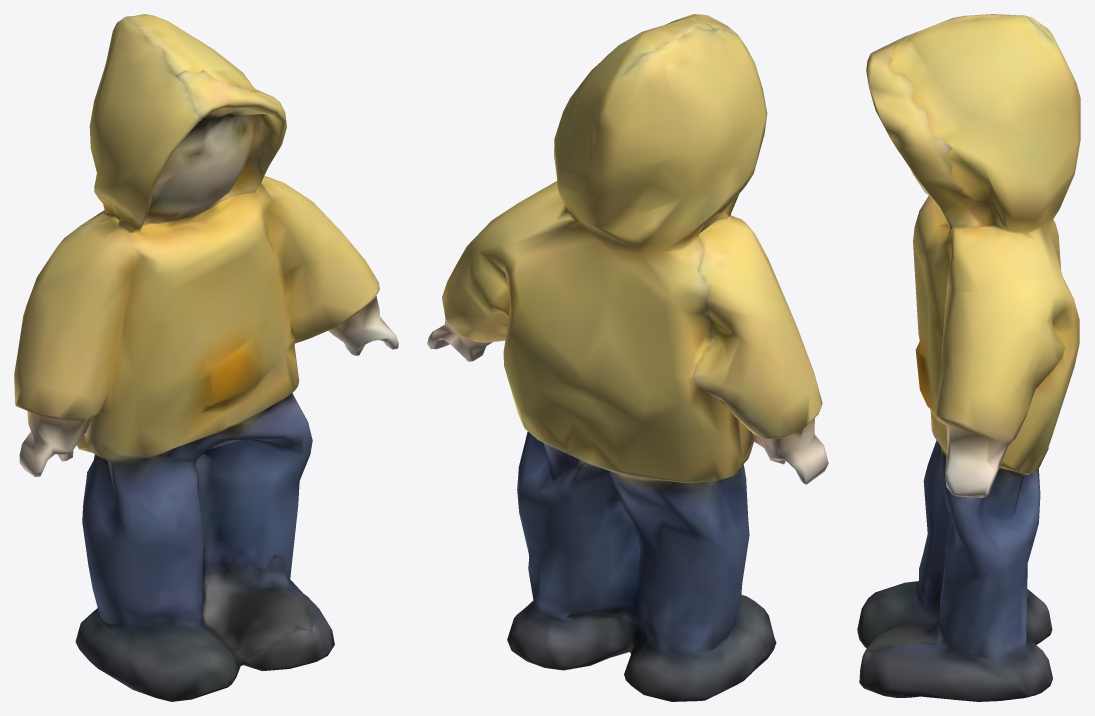
The model's file is 3D_Dollhouse_Happy_Brother-medium.glb.
3 renders of one model, left to right at view 1: azimuth 30°, elevation 25°; view 2: azimuth 150°, elevation 25°; view 3: azimuth 270°, elevation 25°, orthographic. The views are drawn at different scales.
Visible parts, largest first — view 1: 3D_Dollhouse_Happy_Brother; view 2: 3D_Dollhouse_Happy_Brother; view 3: 3D_Dollhouse_Happy_Brother.
Boxes of the visible parts, box(x1,y1,x2,y2) form: 3D_Dollhouse_Happy_Brother: box(14, 14, 398, 701); 3D_Dollhouse_Happy_Brother: box(427, 14, 828, 701); 3D_Dollhouse_Happy_Brother: box(857, 14, 1080, 701).
Bounding box in the file's own units: 0.0593 × 0.0953 × 0.0307.
1 material, 1 textured.
